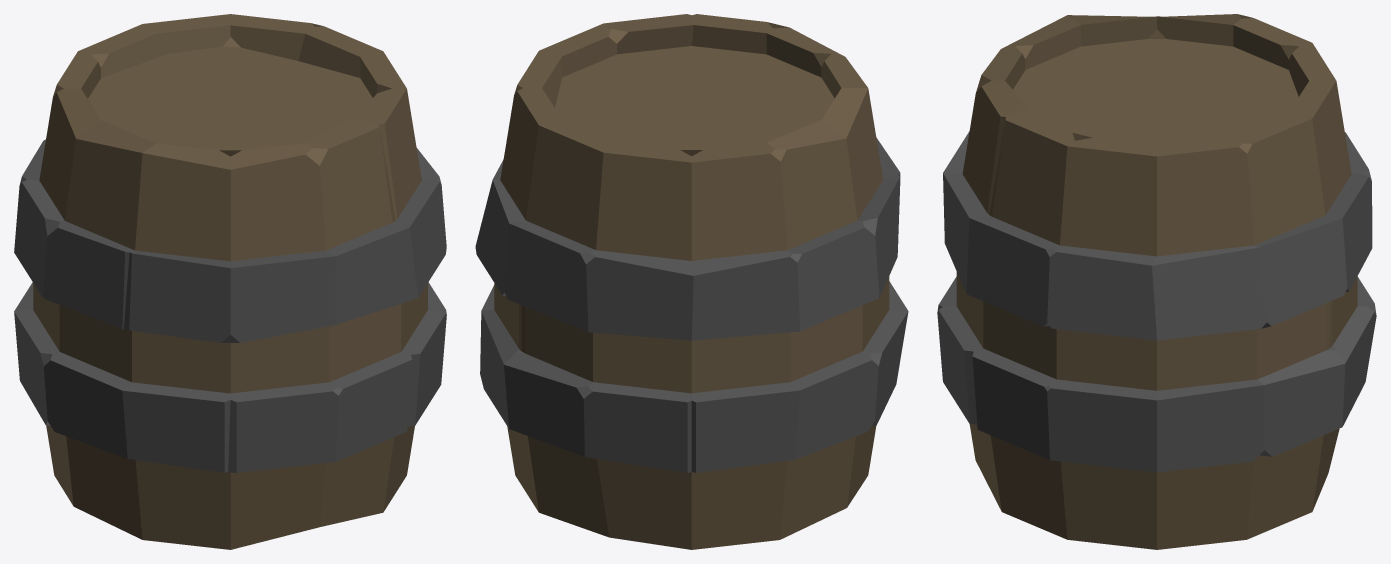
The model's file is Barrel.fbx.
3 views of the same model, side by side, from view 1: azimuth 30°, elevation 25°; view 2: azimuth 150°, elevation 25°; view 3: azimuth 270°, elevation 25° (orthographic).
Visible parts, largest first — view 1: Barrel; view 2: Barrel; view 3: Barrel.
Boxes of the visible parts, x1,y1,x2,y2 form: Barrel: (14, 14, 446, 549); Barrel: (475, 14, 908, 549); Barrel: (937, 14, 1376, 549).
Size of the model in its own units: 185 by 183 by 184.
